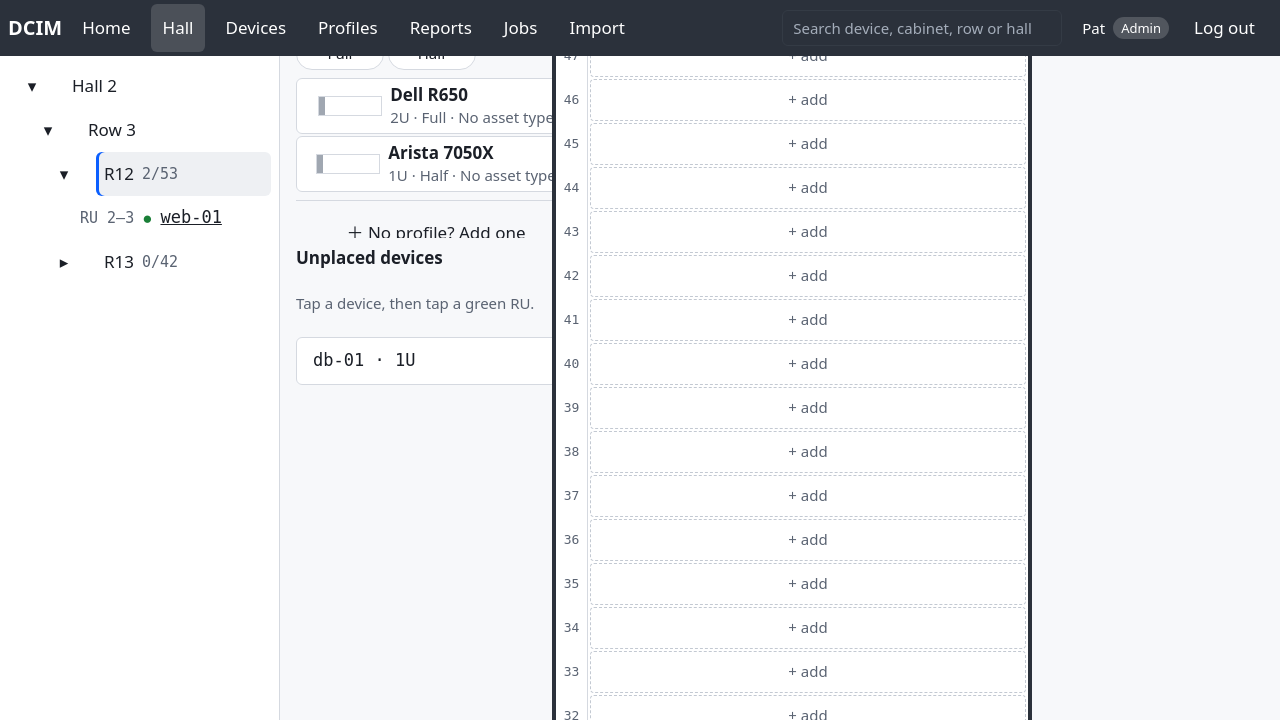
Test: cabinet placement › click alternative: select an unplaced device, click a RU, PATCH, and show 409 detail
(page scrolled)
Click the button "db-01 · 1U" at {"x": 339, "y": 360}, box [296,337,576,385]
(page scrolled)
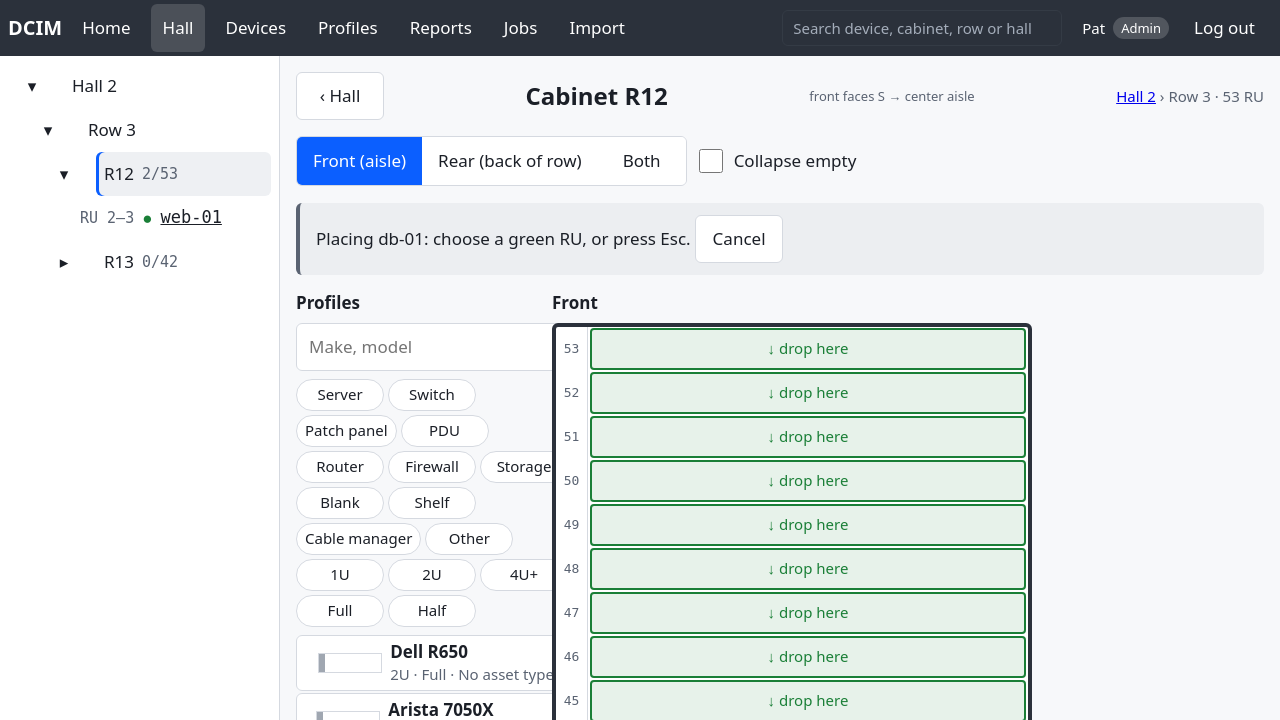
Click the button "Rear (back of row)" at {"x": 510, "y": 161}, box [422,137,598,185]
(page scrolled)
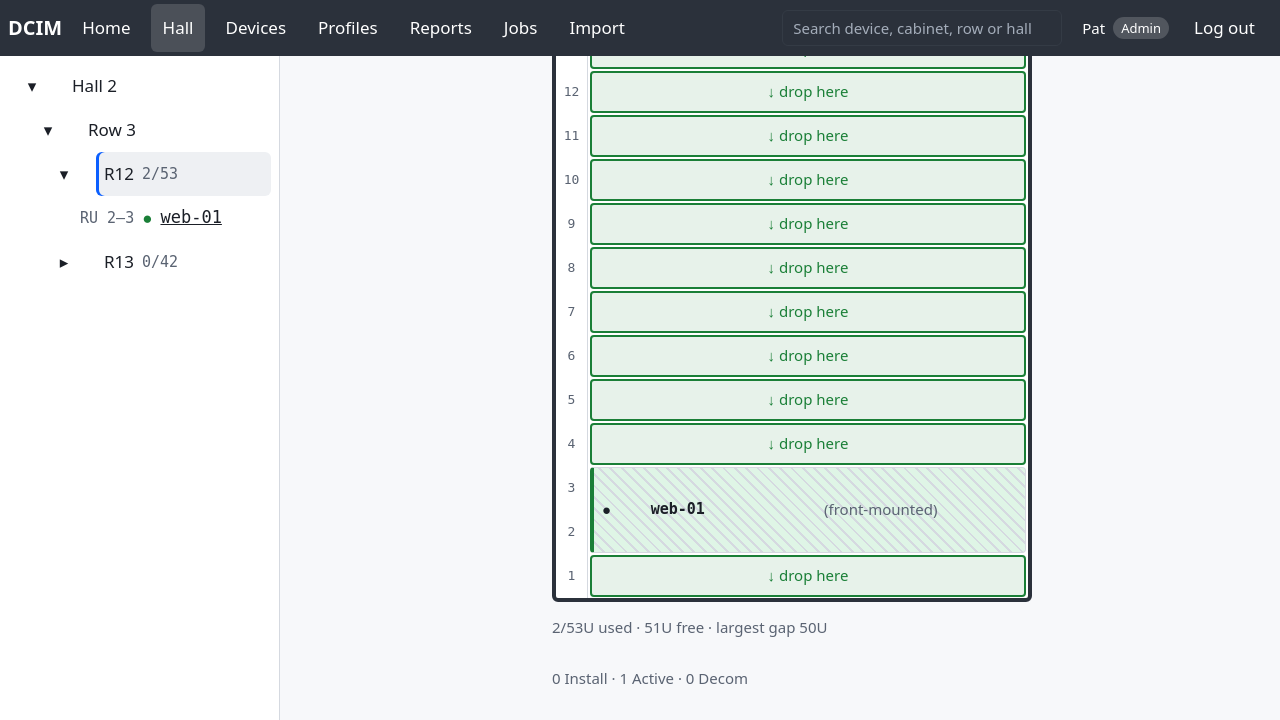
Click the button with test id "slot-rear-1" at {"x": 808, "y": 576}, box [590,555,1026,597]
(page scrolled)
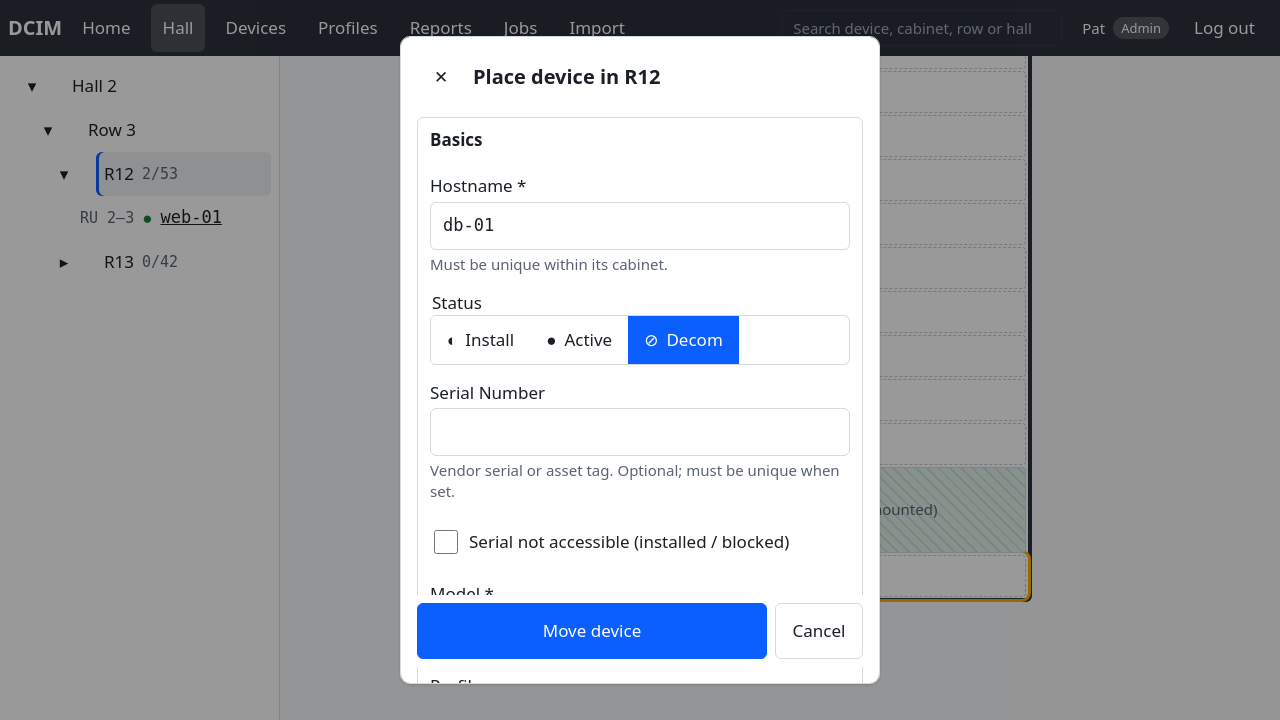
Click the button "Move device" at {"x": 592, "y": 631}, box [417,603,767,659]
(page scrolled)
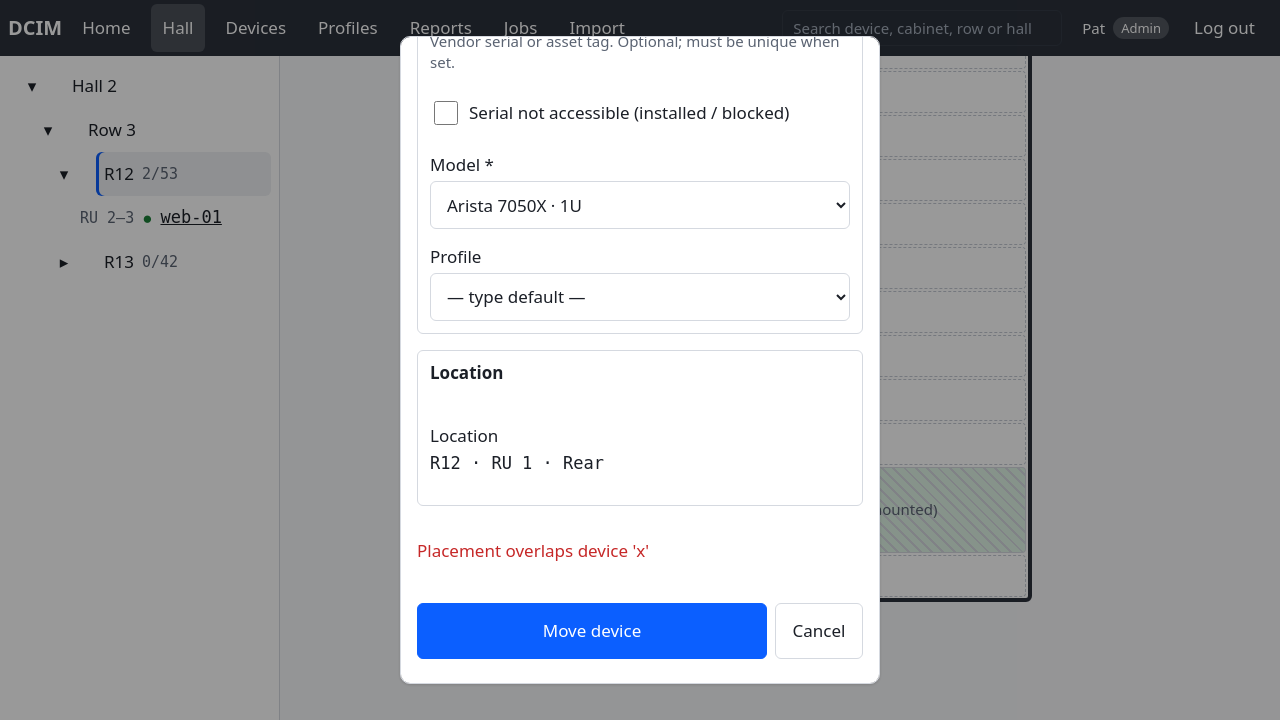
Expected: the message reads "Placement overlaps device 'x'", [417,539,649,562]
